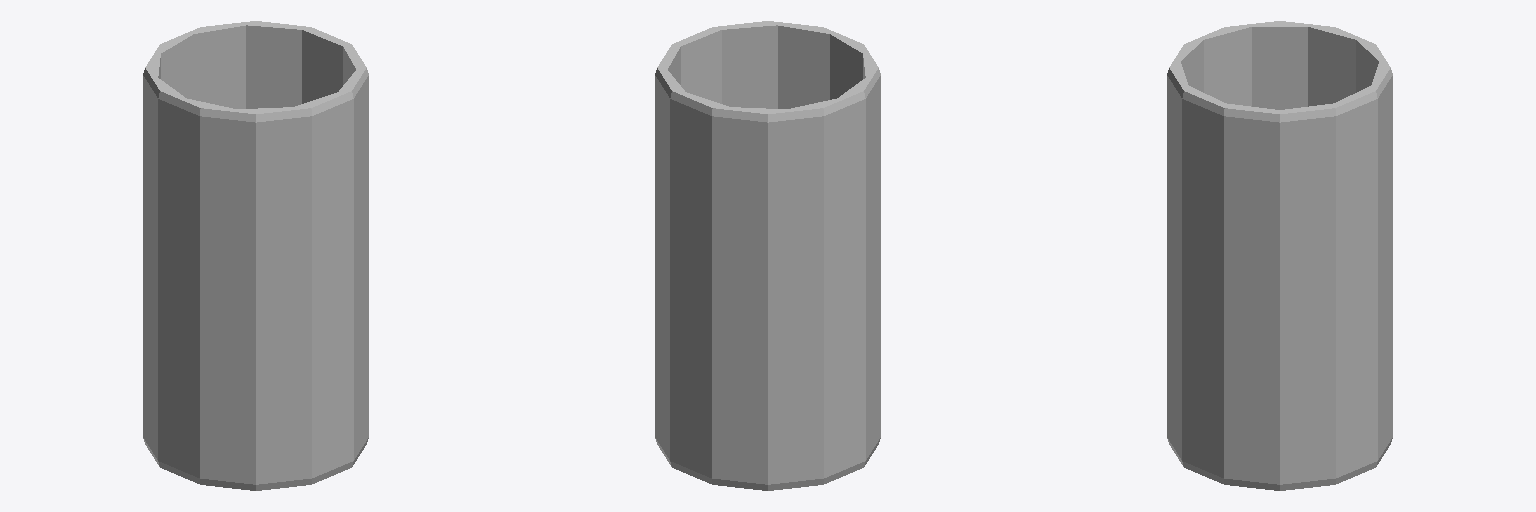
The model's file is 75. Втулка блока заднего хода.obj.
3 views of the same model, side by side, from view 1: azimuth 30°, elevation 25°; view 2: azimuth 150°, elevation 25°; view 3: azimuth 270°, elevation 25° (orthographic).
Parts seen in each view (by area): view 1: Твердое тело1; view 2: Твердое тело1; view 3: Твердое тело1.
Part boxes in pixels (left/top/right/bottom): Твердое тело1: left=143, top=21, right=368, bottom=490; Твердое тело1: left=655, top=21, right=880, bottom=490; Твердое тело1: left=1167, top=21, right=1392, bottom=490.
Bounding box in the file's own units: 28.25 × 52 × 28.25.